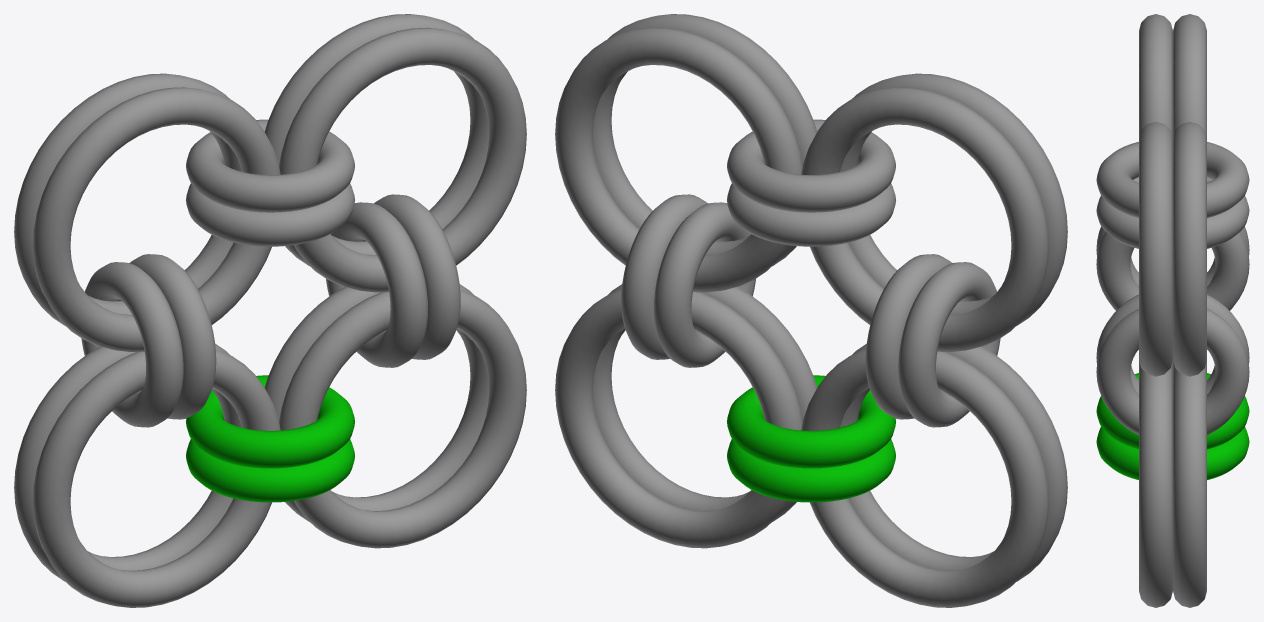
File: japanese_8_in_2_step_06.glb
3 views of the same model, side by side, from view 1: azimuth 30°, elevation 25°; view 2: azimuth 150°, elevation 25°; view 3: azimuth 270°, elevation 25° (orthographic). The views are drawn at different scales.
Parts seen in each view (by area): view 1: Torus AR 6.001, Torus AR 6.003, Torus AR 6.032, Torus AR 6.024, Torus AR 6.019, Torus AR 6.004, Torus AR 6.027, Torus AR 6.002, Torus AR 3.003, Torus AR 3.042, Torus AR 3.002, Torus AR 3.005 (+4 smaller); view 2: Torus AR 6.002, Torus AR 6.004, Torus AR 6.027, Torus AR 6.019, Torus AR 6.024, Torus AR 6.003, Torus AR 6.032, Torus AR 6.001, Torus AR 3.003, Torus AR 3.042, Torus AR 3.002, Torus AR 3.005 (+4 smaller); view 3: Torus AR 6.027, Torus AR 6.032, Torus AR 6.001, Torus AR 6.002, Torus AR 3.001, Torus AR 3.042, Torus AR 3.004, Torus AR 6.019, Torus AR 6.024, Torus AR 3.041, Torus AR 3.006, Torus AR 3.005 (+2 smaller).
Boxes of the visible parts, x1,y1,x2,y2 form: Torus AR 6.001: [279, 289, 526, 548]; Torus AR 6.003: [33, 349, 280, 607]; Torus AR 6.032: [279, 27, 526, 292]; Torus AR 6.024: [33, 87, 280, 351]; Torus AR 6.019: [14, 73, 241, 325]; Torus AR 6.004: [14, 343, 241, 581]; Torus AR 6.027: [264, 14, 489, 266]; Torus AR 6.002: [264, 284, 489, 521]; Torus AR 3.003: [81, 262, 183, 427]; Torus AR 3.042: [186, 119, 354, 212]; Torus AR 3.002: [326, 202, 428, 367]; Torus AR 3.005: [186, 375, 354, 468]; Torus AR 6.002: [555, 289, 802, 548]; Torus AR 6.004: [801, 349, 1048, 607]; Torus AR 6.027: [555, 27, 802, 292]; Torus AR 6.019: [801, 87, 1048, 351]; Torus AR 6.024: [840, 73, 1067, 325]; Torus AR 6.003: [840, 343, 1067, 581]; Torus AR 6.032: [592, 14, 817, 266]; Torus AR 6.001: [592, 284, 817, 521]; Torus AR 3.003: [898, 262, 1000, 427]; Torus AR 3.042: [727, 119, 895, 212]; Torus AR 3.002: [653, 202, 755, 367]; Torus AR 3.005: [727, 375, 895, 468]; Torus AR 6.027: [1173, 122, 1206, 376]; Torus AR 6.032: [1139, 122, 1172, 376]; Torus AR 6.001: [1139, 365, 1172, 607]; Torus AR 6.002: [1173, 365, 1206, 607]; Torus AR 3.001: [1096, 309, 1249, 435]; Torus AR 3.042: [1096, 142, 1249, 217]; Torus AR 3.004: [1096, 231, 1249, 310]; Torus AR 6.019: [1173, 14, 1206, 137]; Torus AR 6.024: [1139, 14, 1172, 137]; Torus AR 3.041: [1096, 177, 1249, 248]; Torus AR 3.006: [1096, 427, 1249, 479]; Torus AR 3.005: [1096, 373, 1249, 449].
Size of the model in its own units: 6 by 6 by 1.8.
